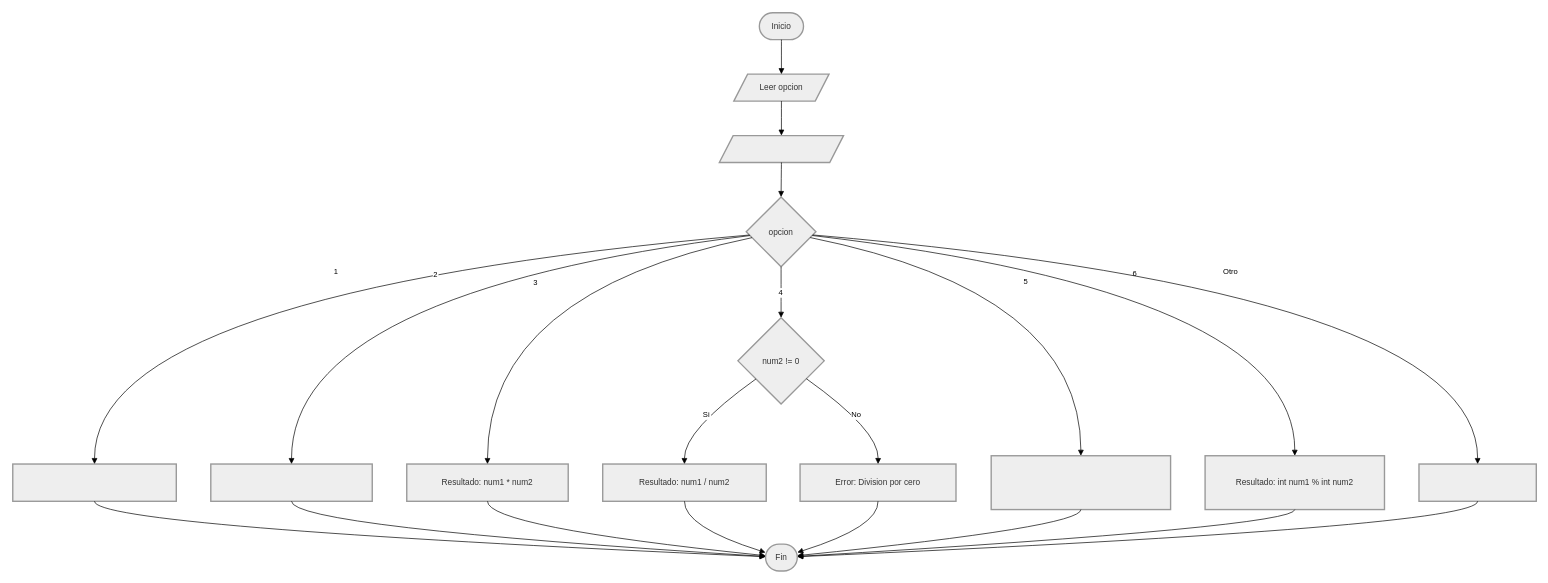
Some shapes in this 1548 by 583 pixel diagram are drawn without their labels. Each missing label, with the centre of its shape:
"Leer num1, num2" goes at [781,149].
"Opcion invalida" goes at [1477,482].
"Resultado: num1 + num2" goes at [94,482].
"Resultado: num1 - num2" goes at [291,482].
"Resultado: pow num1, num2" goes at [1080,482].
